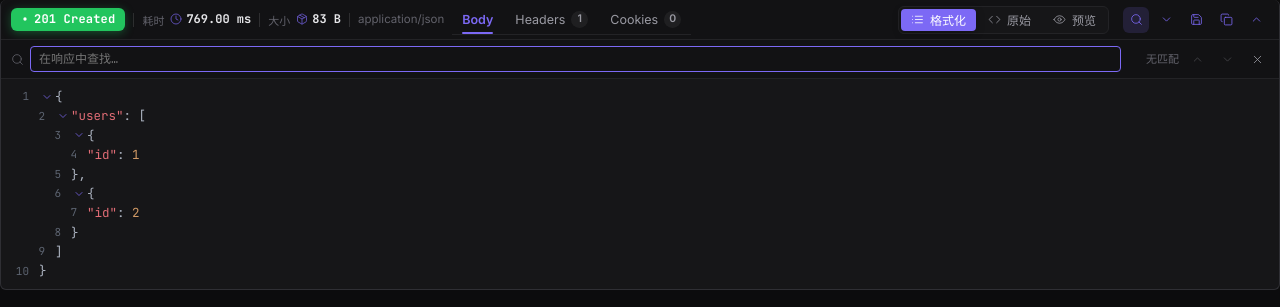
ResponsePanel：查找（Find in Response） › ⌘F 打开查找条 → 高亮全部 + n/N 计数 → 上一个/下一个切换 → Esc 关闭并清空
Type "id" into the field with class "findbar-input".
click(576, 59); type("id")  # box [30, 46, 1121, 72]
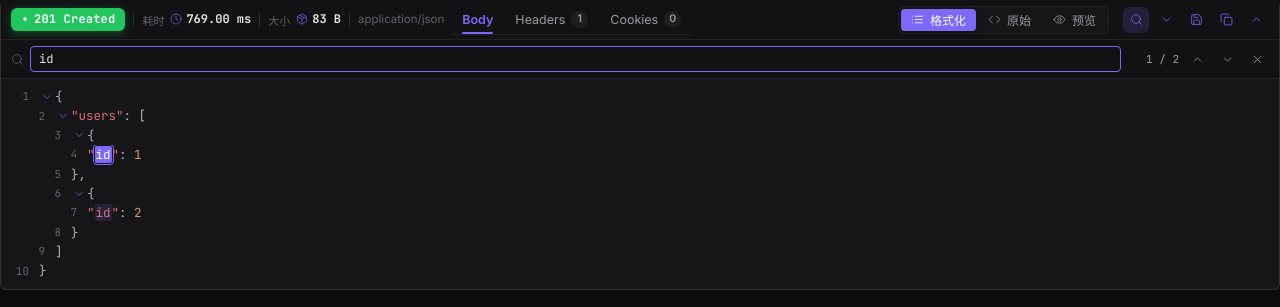
Result: the text "1 / 2" is shown at [1146, 52, 1179, 66]
Result: the number of elements with class "jt-mark" is 2 at [94, 146, 112, 163]; [94, 204, 112, 221]
Click the 2nd button with class "findbar-btn".
click(1227, 59)  # box [1215, 47, 1239, 71]
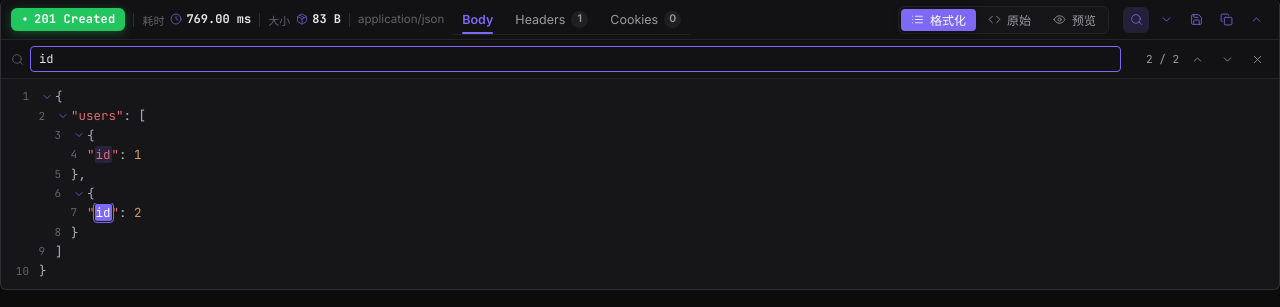
Result: the text "2 / 2" is shown at [1146, 52, 1179, 66]
Click the 1st button with class "findbar-btn".
click(1197, 59)  # box [1185, 47, 1209, 71]
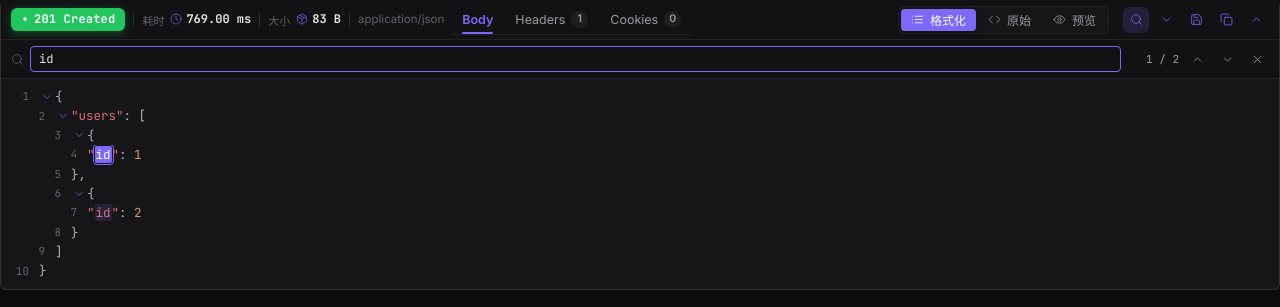
Result: the text "1 / 2" is shown at [1146, 52, 1179, 66]
Press Escape in the field with class "findbar-input", box [30, 46, 1121, 72]
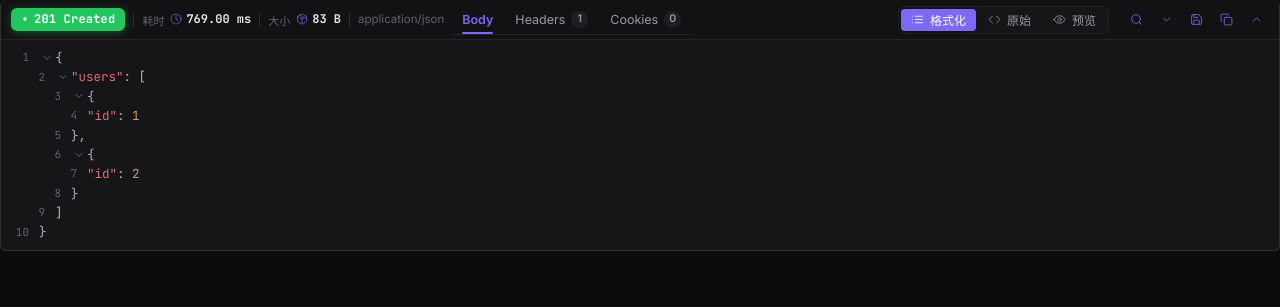
Result: no elements with class "jt-mark" are shown
